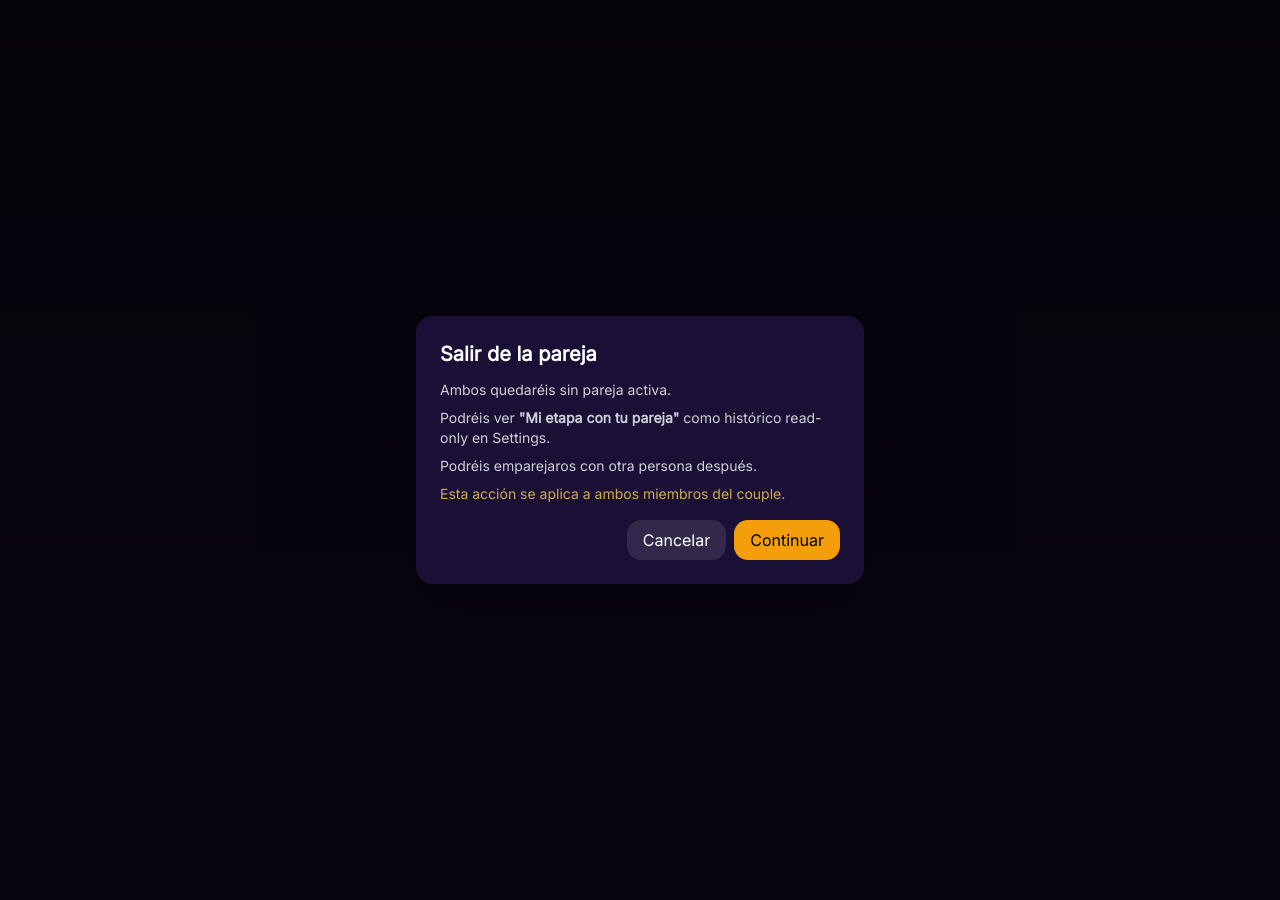
it: LeaveCoupleWizard › avanza de paso 1 a paso 2
Click the button with test id "btn-step1-continue".
click(787, 540)  # box [734,520,840,560]
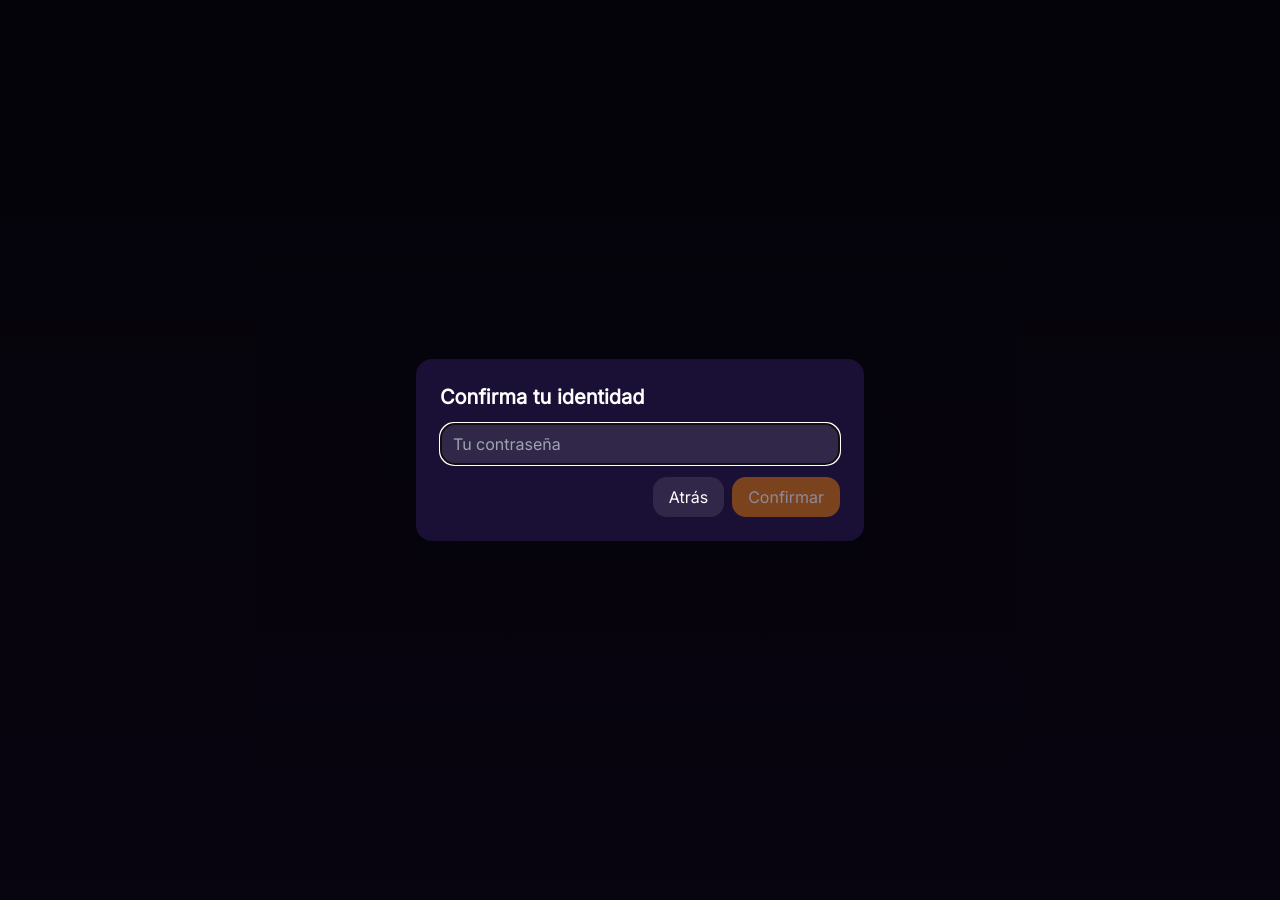
expect the password field with test id "input-password" is shown: met, box [440,423,840,465]
